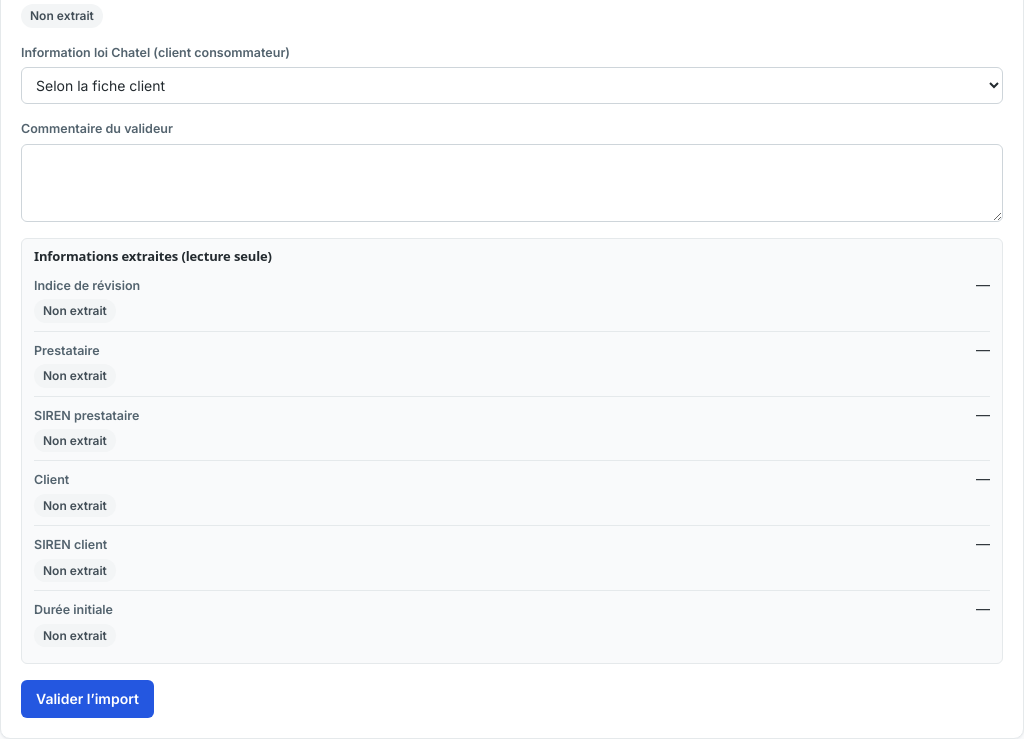
Test: refus local : sans date d’effet, aucun envoi et le focus va au champ en erreur
(page scrolled)
Step 1. Click the button "Valider l’import" → (87, 699), box [21,680,154,718]
(page scrolled)
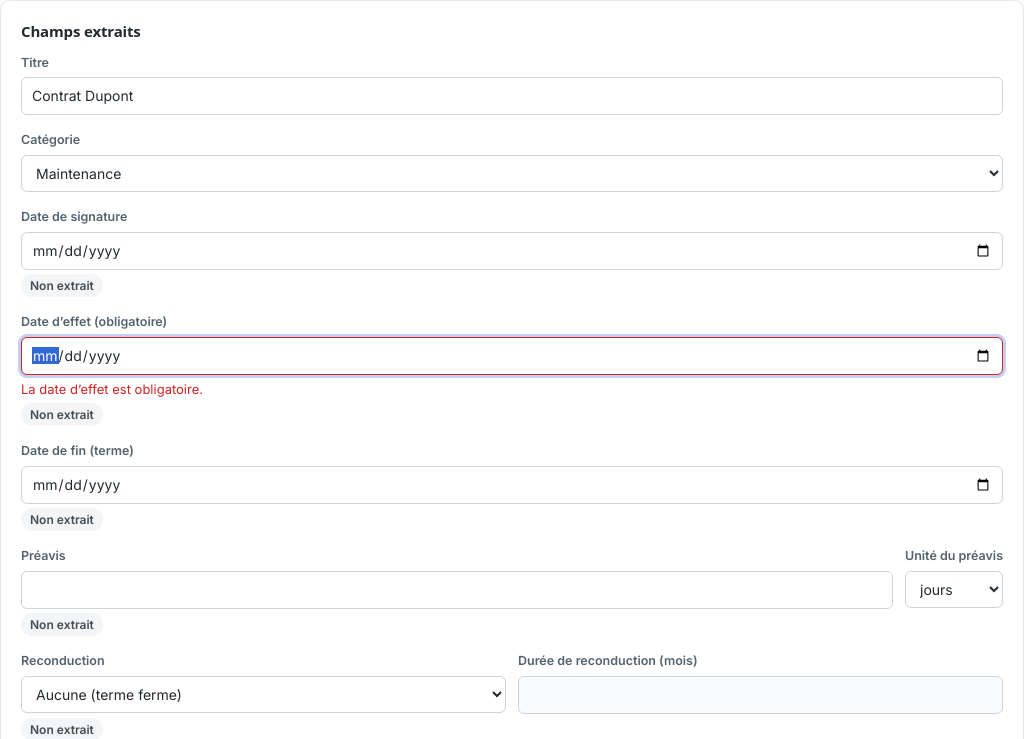
Check: the text "La date d’effet est obligatoire." is shown, box [21,381,203,397]
